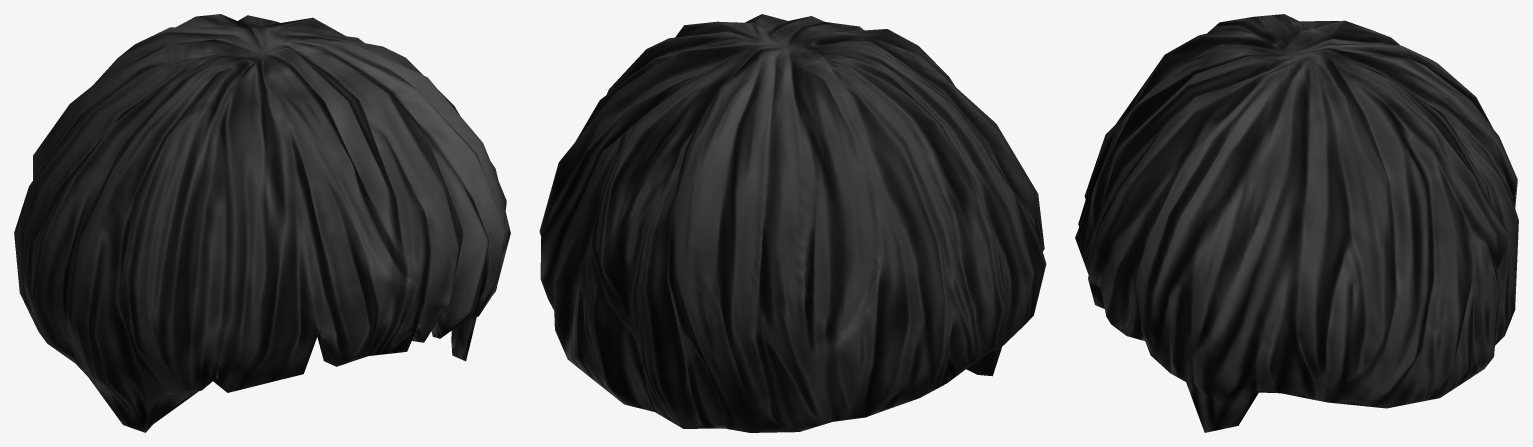
Rendered from AF_M_hair_09.fbx.
The picture shows the model from 3 angles, left to right: view 1: azimuth 30°, elevation 25°; view 2: azimuth 150°, elevation 25°; view 3: azimuth 270°, elevation 25°; orthographic projection. The views are drawn at different scales.
Visible parts, largest first — view 1: AF_M_hair_09; view 2: AF_M_hair_09; view 3: AF_M_hair_09.
Part boxes in pixels (<box>): AF_M_hair_09: <box>14,14,510,432</box>; AF_M_hair_09: <box>539,14,1046,432</box>; AF_M_hair_09: <box>1075,14,1518,432</box>.
Size of the model in its own units: 807 by 572 by 735.
